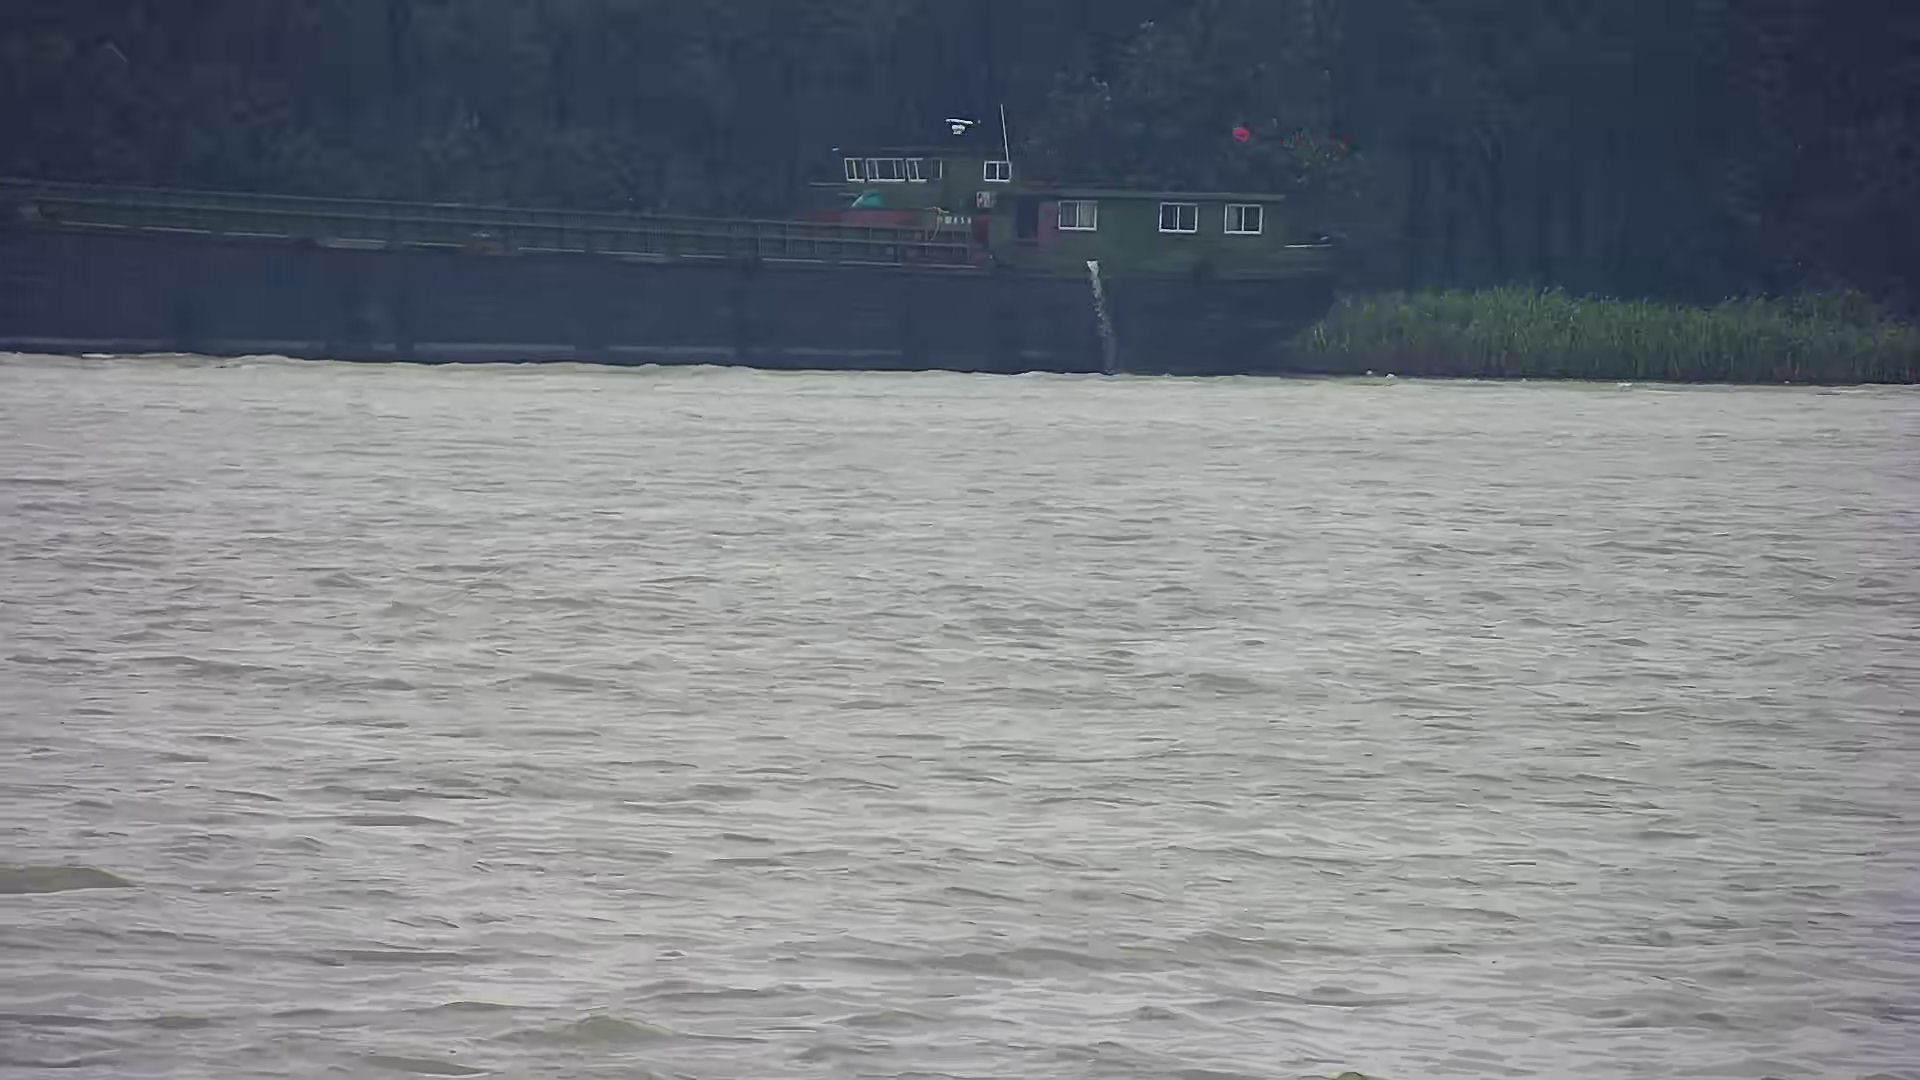ship: (5, 90, 1344, 394)
